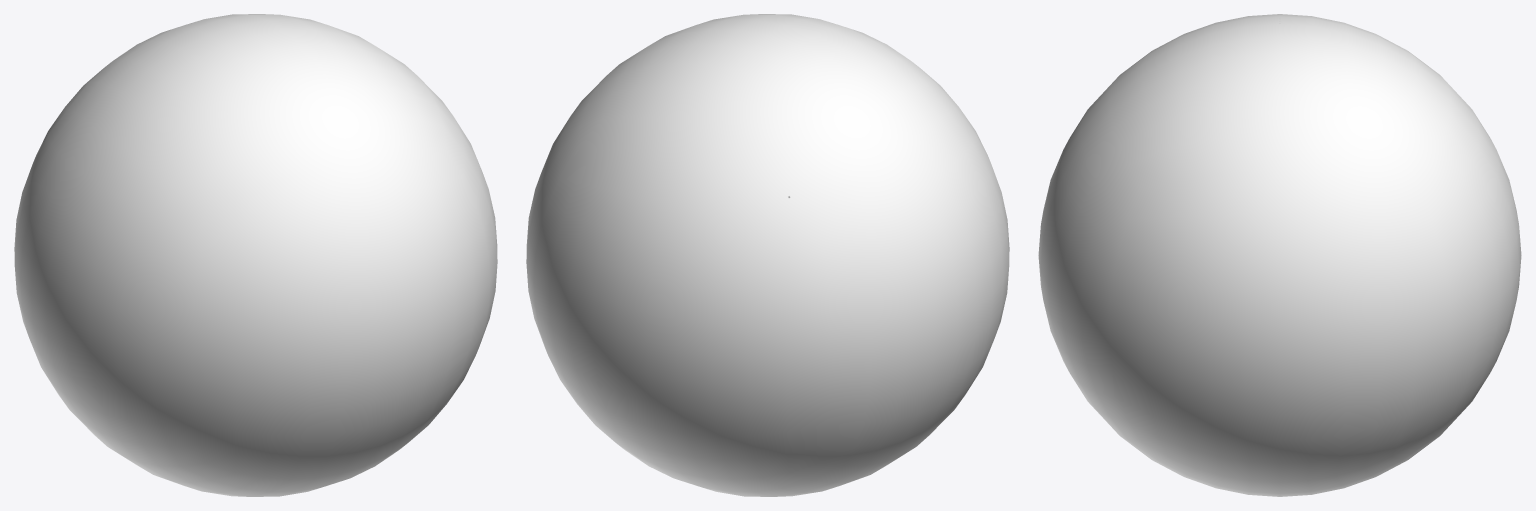
File: heart_in_love.fbx
3 views of the same model, side by side, from view 1: azimuth 30°, elevation 25°; view 2: azimuth 150°, elevation 25°; view 3: azimuth 270°, elevation 25° (orthographic).
Visible parts, largest first — view 1: Marble; view 2: Marble; view 3: Marble.
Part boxes in pixels (x1,y1,x2,y2): Marble: (14, 14, 497, 496); Marble: (526, 14, 1009, 496); Marble: (1038, 14, 1521, 496).
Bounding box in the file's own units: 200 × 200 × 200.
Materials: 2 (2 with a texture image).
